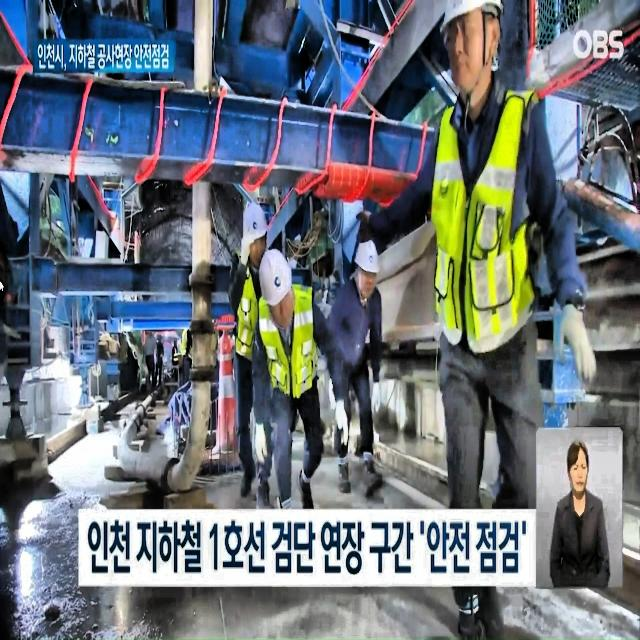safety_helmet: (442, 0, 503, 40), (256, 248, 296, 307), (354, 233, 382, 282), (241, 200, 269, 242)
safety_jacket: (429, 100, 544, 336), (255, 282, 317, 390), (235, 260, 282, 368)
